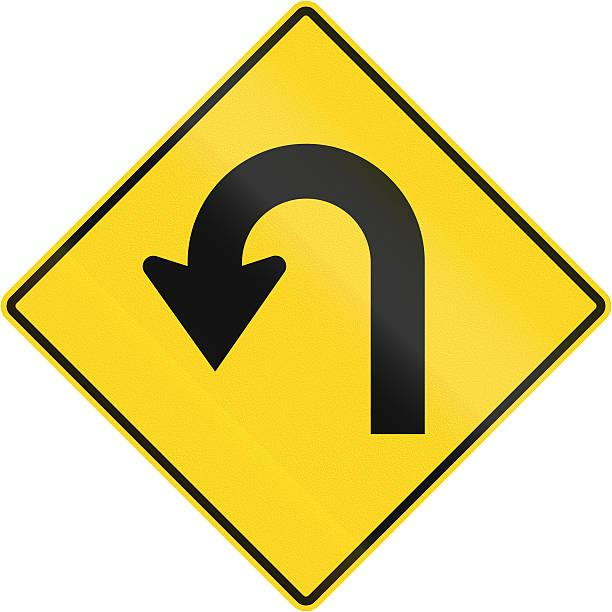Left Hair Pin Bend: (69, 9, 589, 605)
